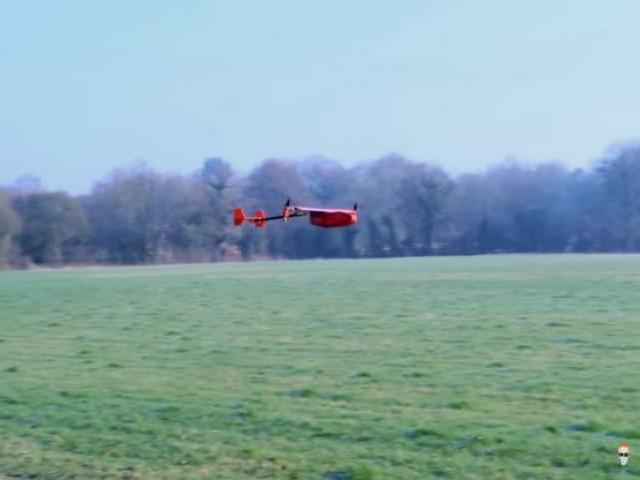uav: (226, 194, 368, 232)
